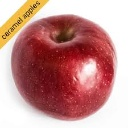apple: (11, 15, 118, 122)
